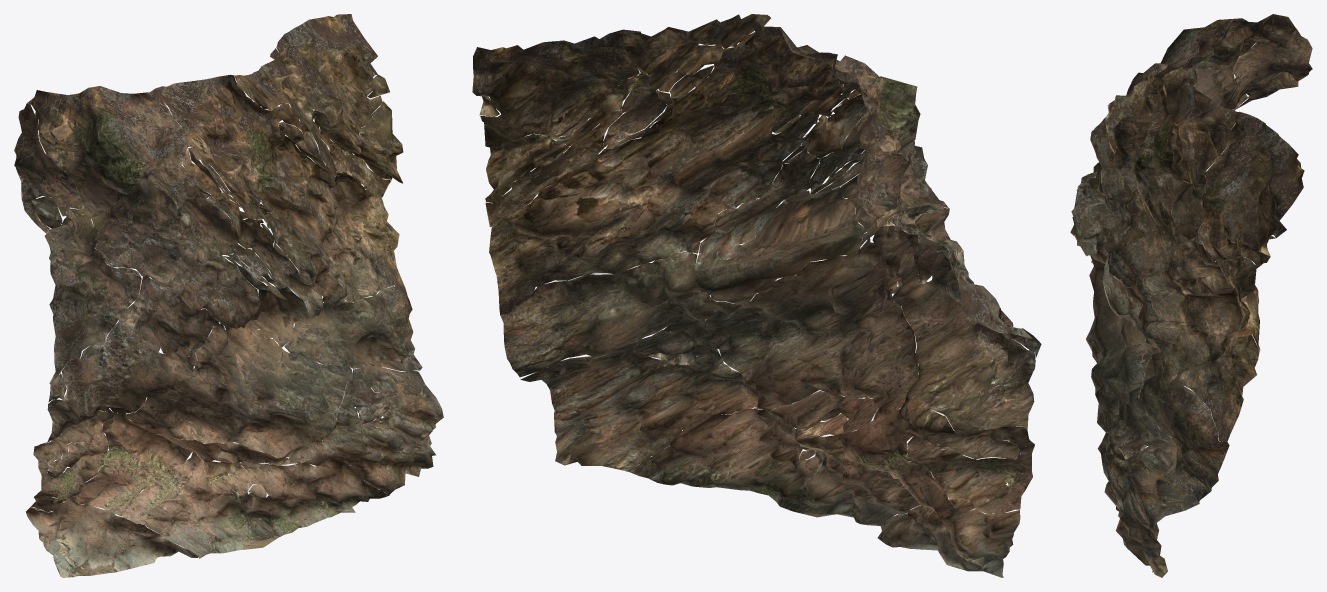
Rendered from cliff.glb.
3 renders of one model, left to right at view 1: azimuth 30°, elevation 25°; view 2: azimuth 150°, elevation 25°; view 3: azimuth 270°, elevation 25°, orthographic. The views are drawn at different scales.
Parts seen in each view (by area): view 1: mountainside; view 2: mountainside; view 3: mountainside.
Part boxes in pixels (bbox=[...]): mountainside: bbox=[14, 14, 443, 577]; mountainside: bbox=[472, 14, 1041, 577]; mountainside: bbox=[1070, 14, 1312, 577].
Size of the model in its own units: 10.2 by 10.52 by 5.28.
1 material, 1 textured.
